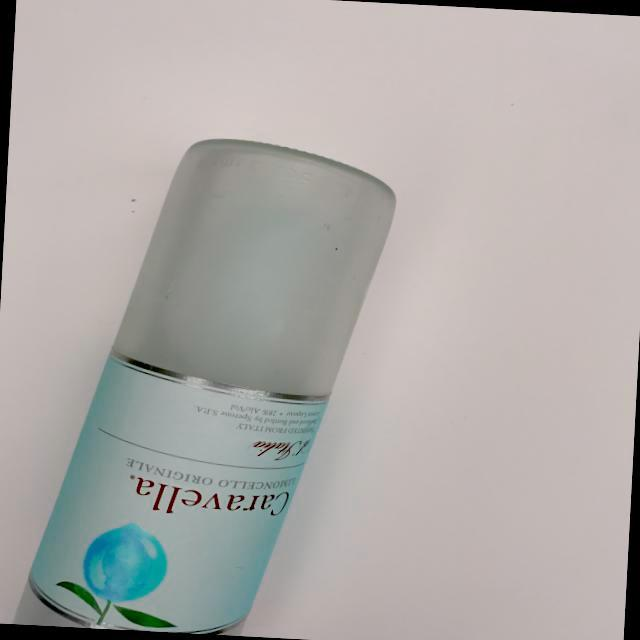glass: (1, 121, 410, 640)
